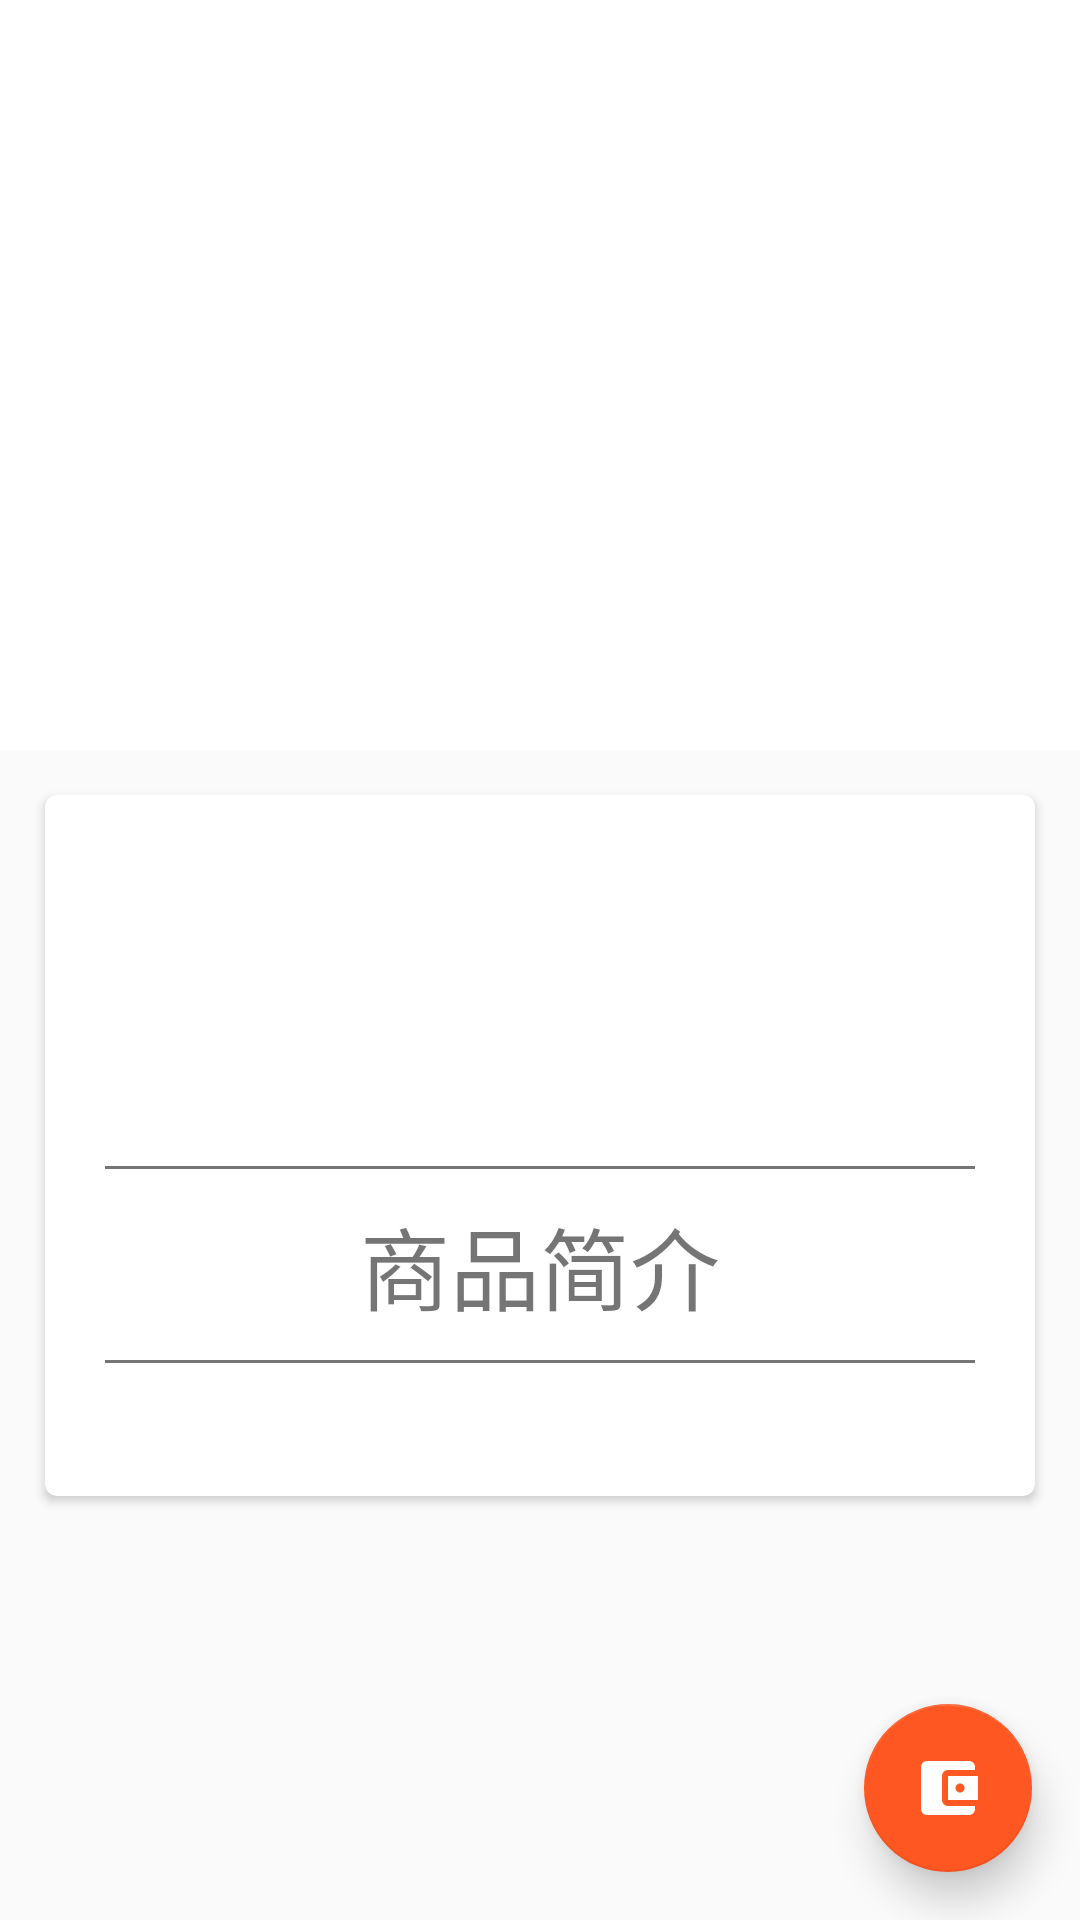

Icons on this 1080*1920 Android screen, each with its box as BBox(x1, y1, x2, y2):
account balance wallet: BBox(864, 1704, 1032, 1872)
